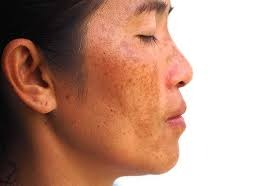Melasma: (108, 45, 164, 126), (93, 15, 130, 83)
